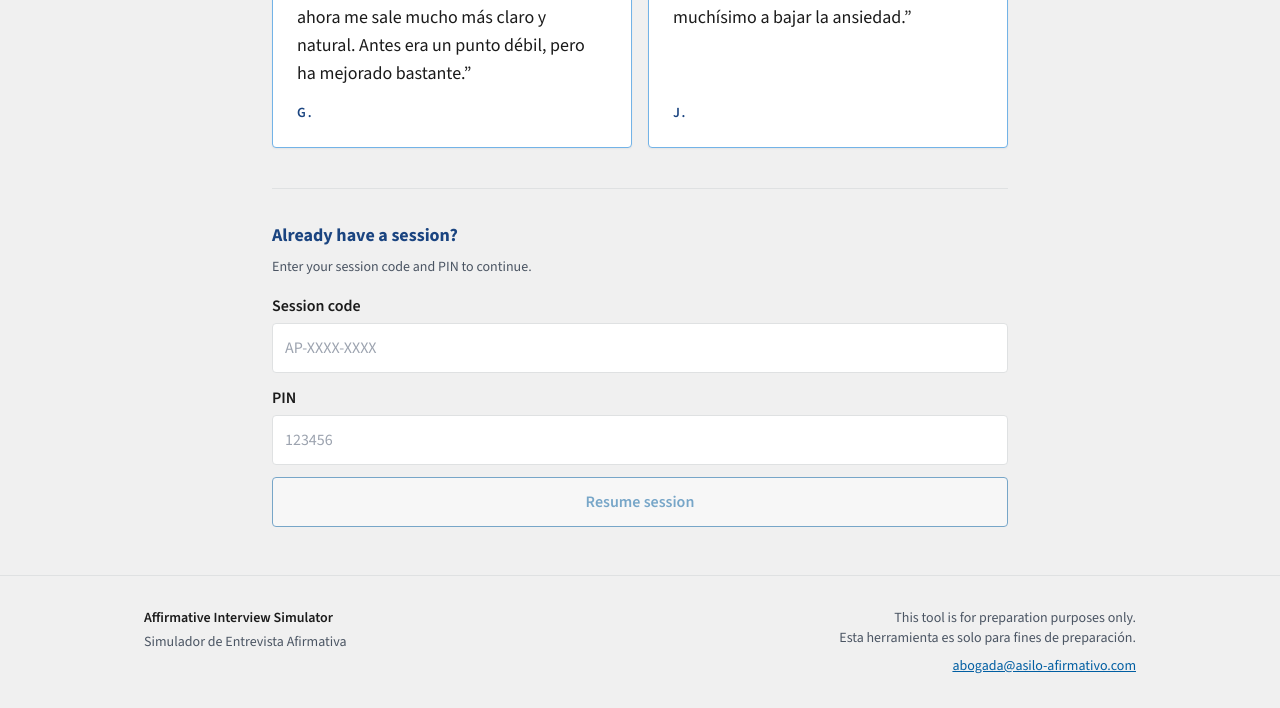
it: LandingPage › shows the invalid PIN message in the active language only
(page scrolled)
Type "AP-7K9X-M2NF" into the field labelled "Session code" at (640, 348), box top-left (272, 323), bottom-right (1008, 373)
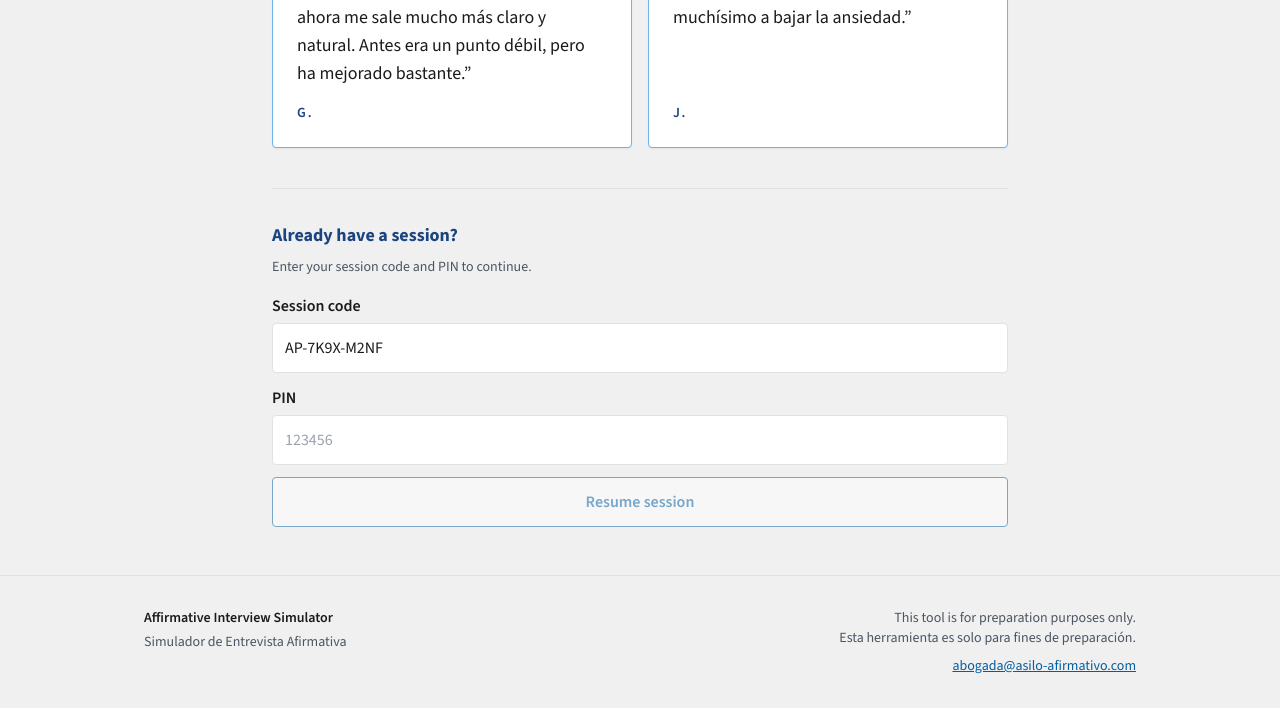
Type "000000" into the field labelled "PIN" at (640, 440), box top-left (272, 415), bottom-right (1008, 465)
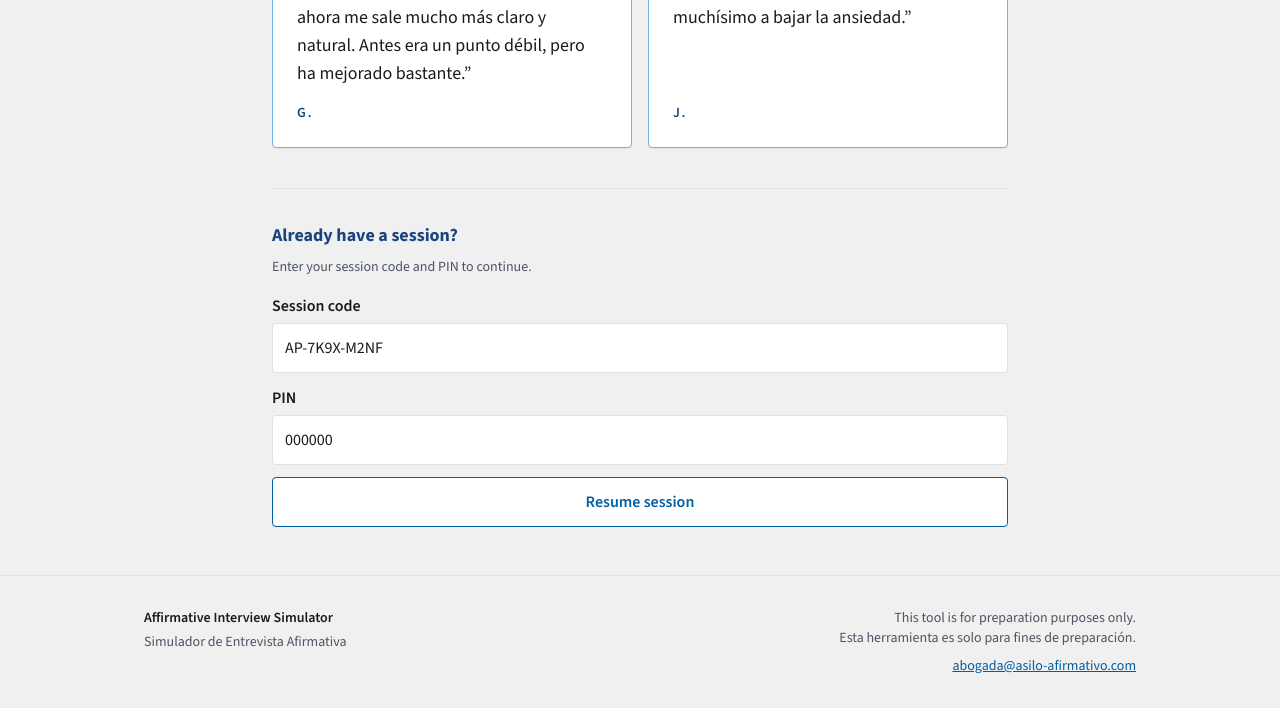
Click the button "Resume session" at (640, 502), box top-left (272, 477), bottom-right (1008, 527)
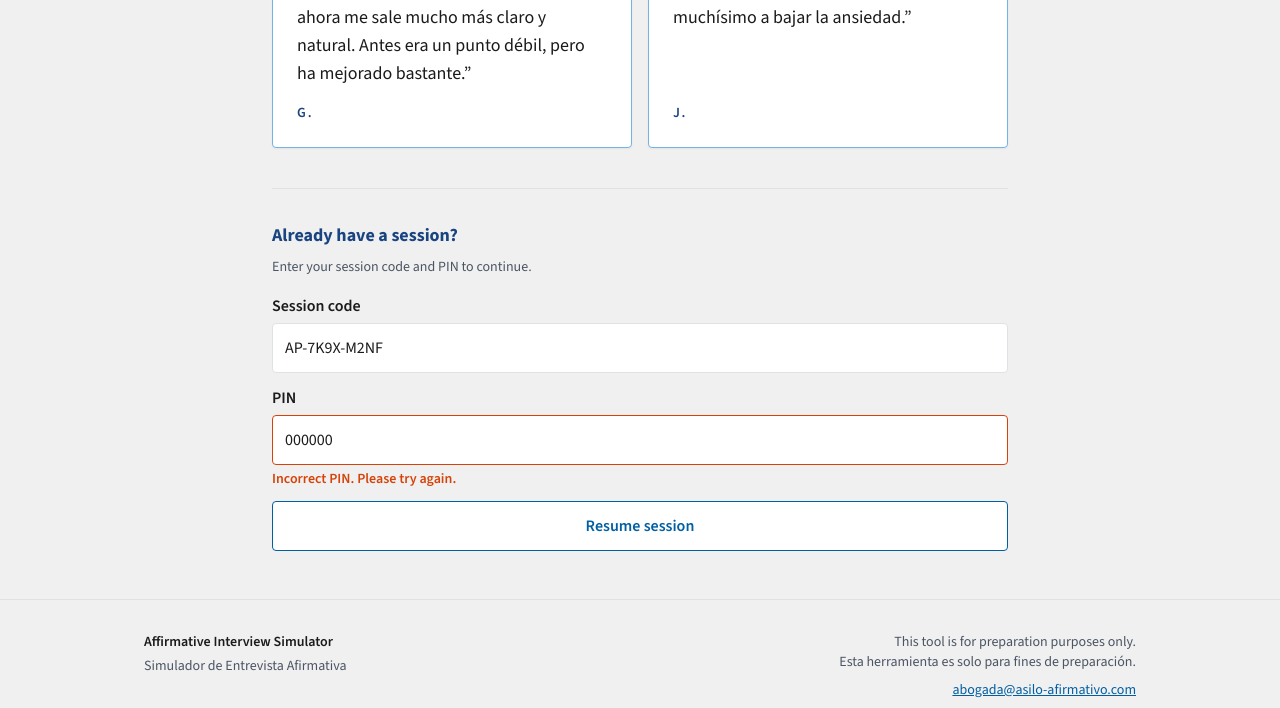
Expected: the text "Incorrect PIN. Please try again." is shown, top-left (272, 469), bottom-right (456, 488)
